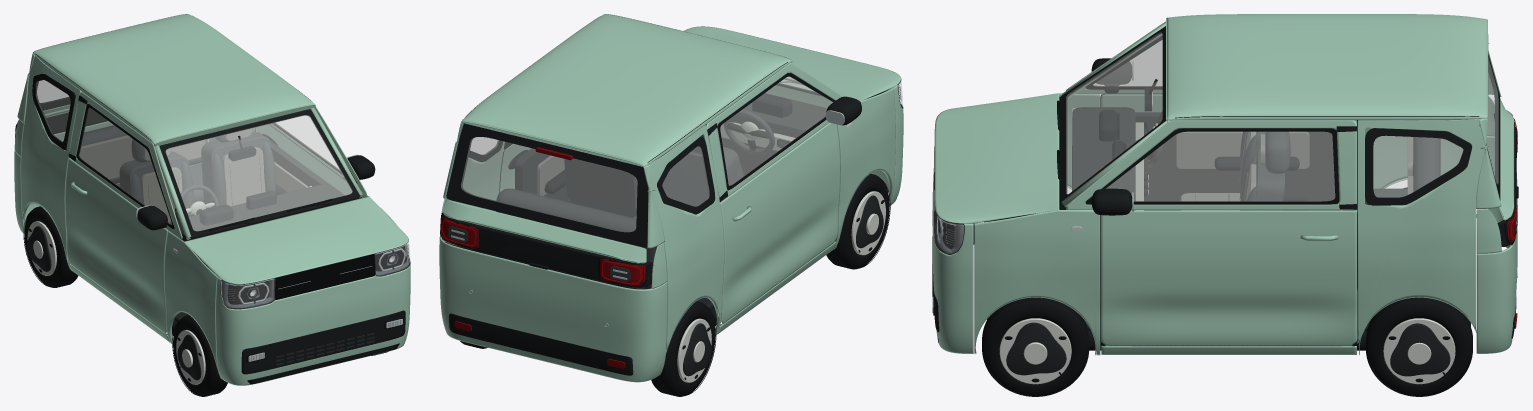
The model's file is car-model.glb.
3 views of the same model, side by side, from view 1: azimuth 30°, elevation 25°; view 2: azimuth 150°, elevation 25°; view 3: azimuth 270°, elevation 25° (orthographic). The views are drawn at different scales.
Parts seen in each view (by area): view 1: B-spline rolled roof, Windshield glass, B-spline hood, B-spline front bumper fitted to lamps, B-spline door skin L, B-spline rear quarter L, Door glass L, B-spline front fender L, Fitted lower intake insert, Windshield ceramic border, Flush piano black fascia, Dashboard padded upper shell (+43 smaller); view 2: B-spline rolled roof, B-spline rear bumper, B-spline door skin L, Rear glass, B-spline rear quarter L, Door glass L, Rear window ceramic border, B-spline front fender L, B-spline hood, Rear hatch belt rail, Rear piano black fascia, Fitted rear lower valance (+29 smaller); view 3: B-spline door skin R, B-spline rolled roof, B-spline rear quarter R, B-spline hood, Door glass R, B-spline front fender R, Windshield glass, Interior door card L, B-spline door window frame R, Tyre RR, Tyre FR, B-spline rear bumper (+35 smaller).
Part boxes in pixels (bbox=[...]): B-spline rolled roof: bbox=[33, 14, 314, 143]; Windshield glass: bbox=[166, 115, 352, 230]; B-spline hood: bbox=[184, 196, 408, 284]; B-spline front bumper fitted to lamps: bbox=[215, 244, 410, 385]; B-spline door skin L: bbox=[65, 158, 167, 334]; B-spline rear quarter L: bbox=[20, 54, 80, 260]; Door glass L: bbox=[79, 108, 171, 224]; B-spline front fender L: bbox=[164, 230, 221, 378]; Fitted lower intake insert: bbox=[241, 310, 405, 374]; Windshield ceramic border: bbox=[159, 109, 360, 238]; Flush piano black fascia: bbox=[275, 254, 374, 299]; Dashboard padded upper shell: bbox=[170, 184, 348, 254]; B-spline rolled roof: bbox=[462, 14, 792, 166]; B-spline rear bumper: bbox=[439, 237, 667, 382]; B-spline door skin L: bbox=[720, 122, 840, 324]; Rear glass: bbox=[461, 137, 637, 231]; B-spline rear quarter L: bbox=[644, 125, 724, 350]; Door glass L: bbox=[720, 77, 832, 185]; Rear window ceramic border: bbox=[446, 123, 648, 247]; B-spline front fender L: bbox=[833, 88, 895, 249]; B-spline hood: bbox=[684, 26, 901, 101]; Rear hatch belt rail: bbox=[442, 200, 646, 263]; Rear piano black fascia: bbox=[440, 212, 653, 287]; Fitted rear lower valance: bbox=[449, 313, 633, 375]; B-spline door skin R: bbox=[1101, 210, 1357, 346]; B-spline rolled roof: bbox=[1167, 14, 1487, 120]; B-spline rear quarter R: bbox=[1357, 118, 1487, 343]; B-spline hood: bbox=[934, 93, 1059, 223]; Door glass R: bbox=[1106, 132, 1334, 201]; B-spline front fender R: bbox=[974, 209, 1100, 355]; Windshield glass: bbox=[1066, 32, 1162, 193]; Interior door card L: bbox=[1135, 112, 1340, 210]; B-spline door window frame R: bbox=[1066, 120, 1356, 209]; Tyre RR: bbox=[1365, 297, 1472, 396]; Tyre FR: bbox=[982, 297, 1089, 396]; B-spline rear bumper: bbox=[1476, 136, 1517, 353].
Size of the model in its own units: 1.81 by 1.66 by 3.13.
